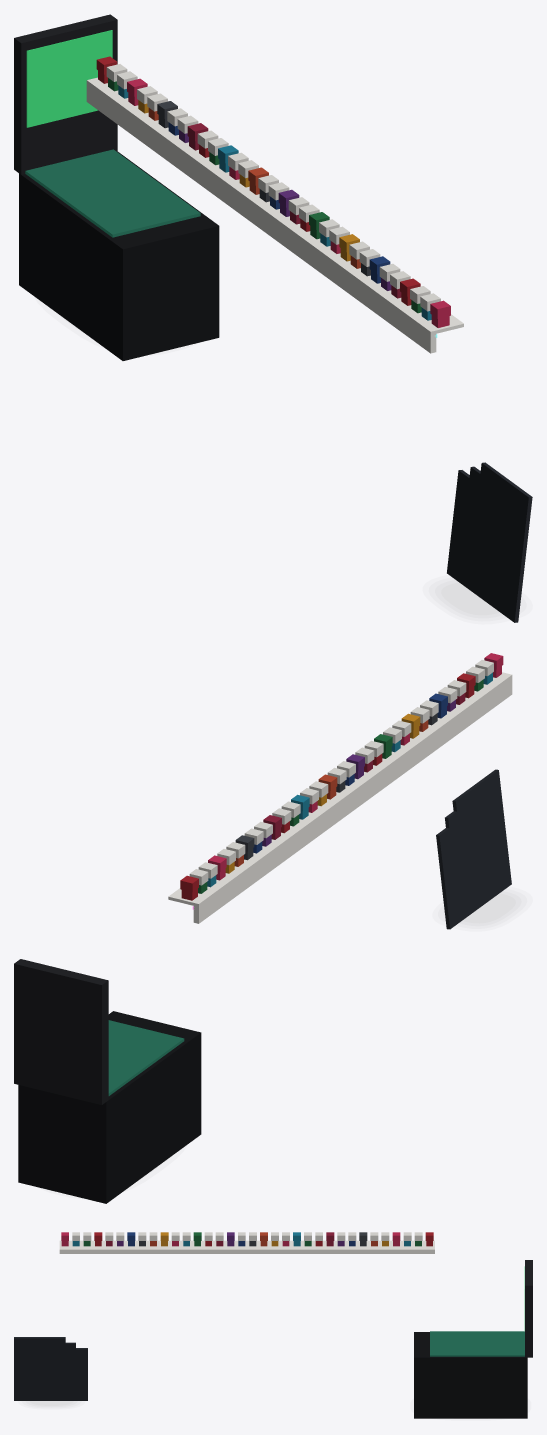
3 views of the same model, one above another, from view 1: azimuth 30°, elevation 25°; view 2: azimuth 150°, elevation 25°; view 3: azimuth 270°, elevation 25° (orthographic). The views are drawn at different scales.
Visible parts, largest first — view 1: root; view 2: root; view 3: root.
Part boxes in pixels (x1=…): root: x1=14, y1=14, x2=532, y2=622; root: x1=14, y1=653, x2=512, y2=1203; root: x1=14, y1=1232, x2=532, y2=1418.
Size of the model in its own units: 0.8839 by 2.02 by 5.98.
